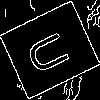U: (24, 25, 79, 78)
